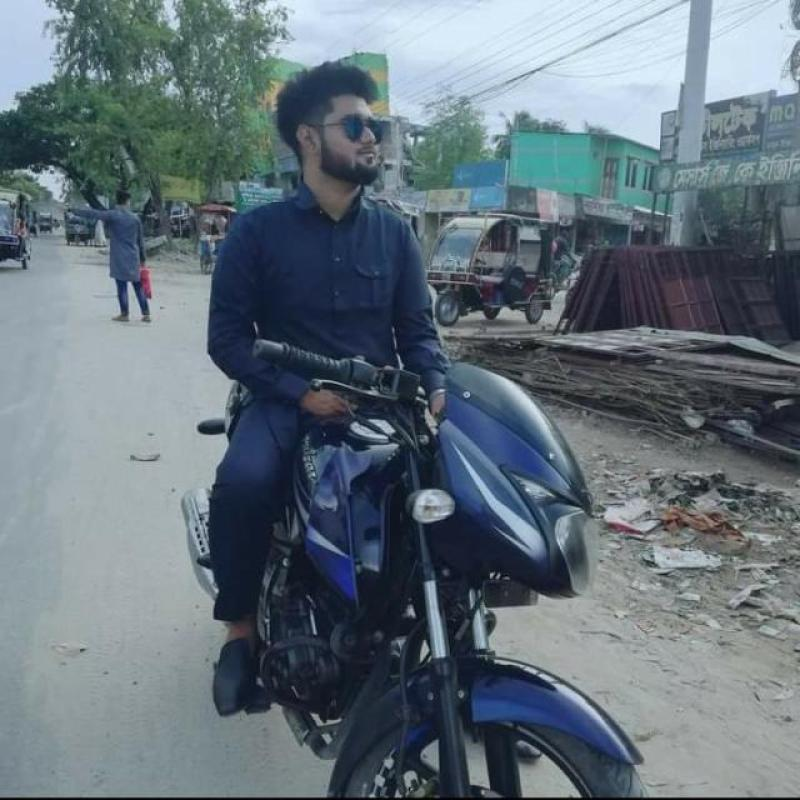nohelmet: (253, 36, 412, 200)
